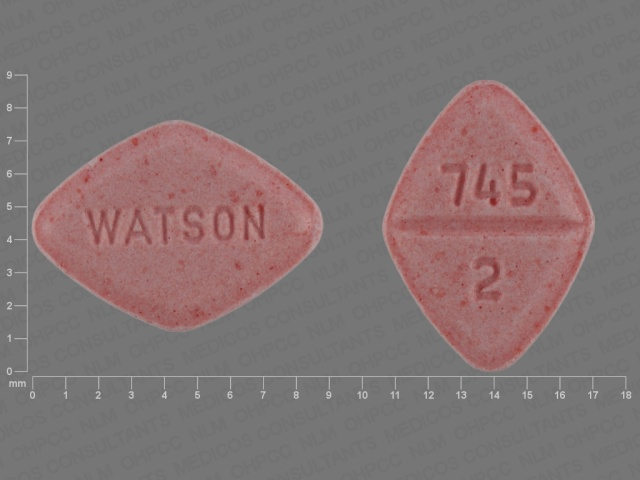2: (472, 253, 505, 306)
4: (472, 161, 504, 210)
5: (505, 161, 540, 211)
7: (438, 159, 468, 210)
A: (122, 208, 153, 248)
N: (240, 202, 267, 242)
O: (211, 203, 238, 245)
S: (176, 202, 208, 246)
T: (154, 203, 179, 248)
W: (84, 205, 124, 249)
|: (400, 211, 582, 246)
